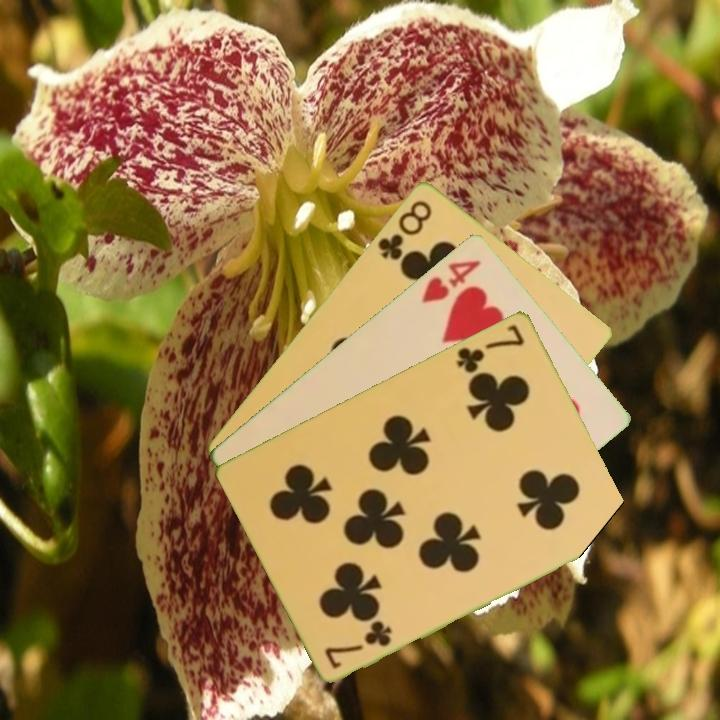4h: (417, 255, 484, 306)
7c: (453, 320, 528, 376), (321, 616, 395, 671)
8c: (374, 196, 435, 263)
